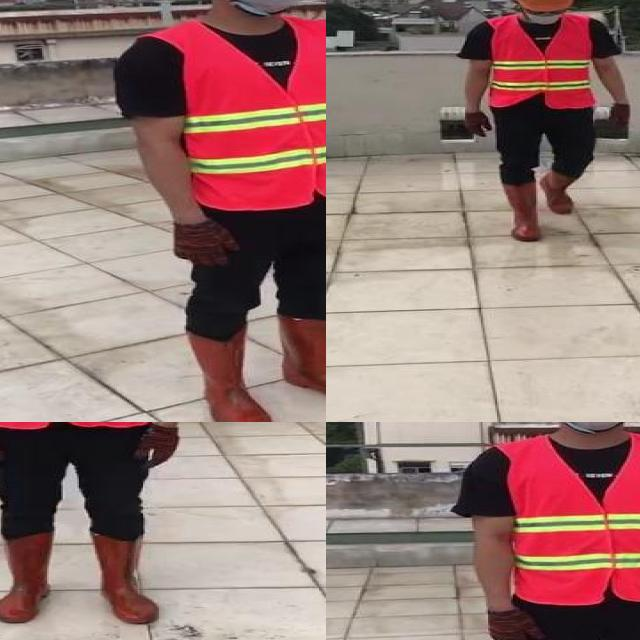boots: (186, 333, 275, 422), (90, 531, 160, 625), (0, 533, 54, 623), (276, 315, 326, 408), (498, 183, 540, 240), (536, 169, 577, 213)
face_mask: (224, 0, 314, 14)
hand_glove: (168, 220, 245, 267), (486, 608, 550, 640), (134, 428, 180, 471), (464, 112, 494, 138), (609, 101, 634, 124)
head_helmet: (508, 0, 577, 13)
person: (105, 0, 326, 422), (455, 0, 640, 242), (450, 422, 640, 640), (0, 422, 197, 624)
vest: (177, 22, 326, 209), (500, 436, 640, 602), (486, 15, 595, 108)
